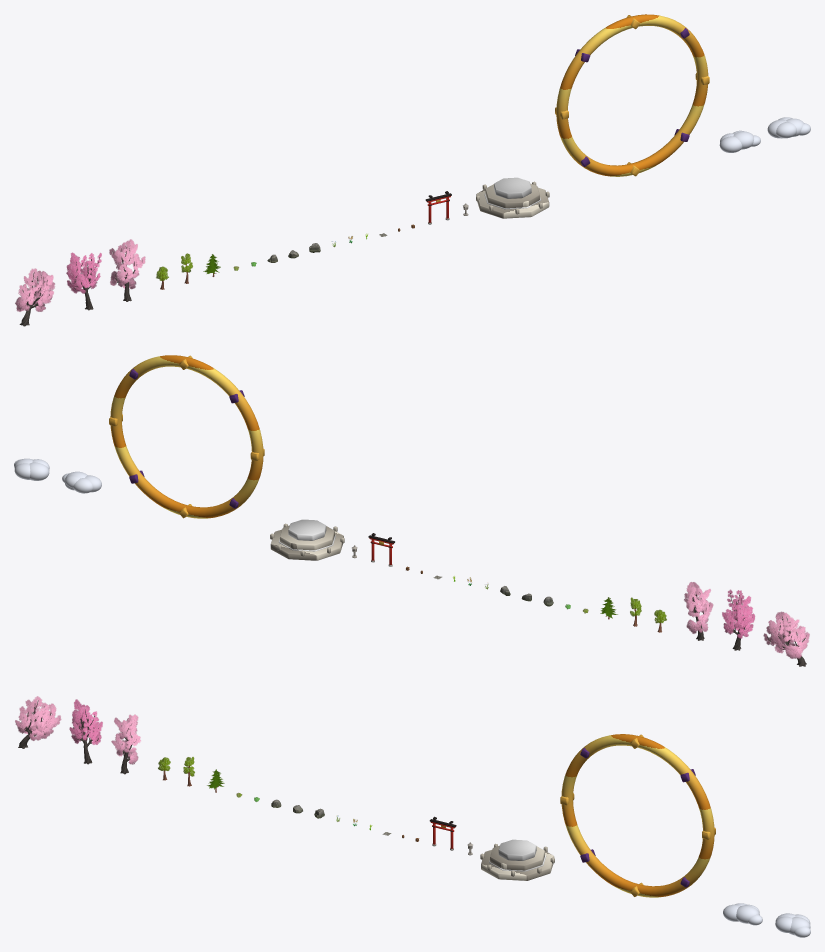
File: SkyDojoKit.glb
3 views of the same model, one above another, from view 1: azimuth 30°, elevation 25°; view 2: azimuth 150°, elevation 25°; view 3: azimuth 330°, elevation 25° (orthographic).
Visible parts, largest first — view 1: PortalRing__Gold.001, Altar__Stone.003, BlossomTree1__Leaves, BlossomTree3__Leaves.002, BlossomTree2__Leaves.001, Altar__Trim, Cloud2__Cloud.001, Cloud1__Cloud; view 2: PortalRing__Gold.001, Altar__Stone.003, BlossomTree1__Leaves, BlossomTree2__Leaves.001, BlossomTree3__Leaves.002, Altar__Trim, Cloud2__Cloud.001, Cloud1__Cloud; view 3: PortalRing__Gold.001, Altar__Stone.003, BlossomTree1__Leaves, BlossomTree2__Leaves.001, BlossomTree3__Leaves.002, Altar__Trim, Cloud2__Cloud.001, Cloud1__Cloud.
Part boxes in pixels (x1,y1,x2,y2): PortalRing__Gold.001: (555, 14, 709, 176); Altar__Stone.003: (476, 181, 549, 218); BlossomTree1__Leaves: (15, 268, 54, 311); BlossomTree3__Leaves.002: (109, 239, 145, 289); BlossomTree2__Leaves.001: (66, 252, 101, 293); Altar__Trim: (484, 177, 541, 209); Cloud2__Cloud.001: (767, 117, 810, 138); Cloud1__Cloud: (719, 130, 760, 152); PortalRing__Gold.001: (109, 355, 264, 518); Altar__Stone.003: (270, 523, 344, 560); BlossomTree1__Leaves: (763, 611, 809, 658); BlossomTree2__Leaves.001: (722, 589, 755, 638); BlossomTree3__Leaves.002: (684, 582, 713, 633); Altar__Trim: (278, 519, 335, 551); Cloud2__Cloud.001: (14, 458, 49, 480); Cloud1__Cloud: (62, 471, 101, 493); PortalRing__Gold.001: (560, 734, 715, 897); Altar__Stone.003: (480, 843, 554, 880); BlossomTree1__Leaves: (15, 696, 61, 740); BlossomTree2__Leaves.001: (69, 699, 102, 744); BlossomTree3__Leaves.002: (111, 714, 140, 764); Altar__Trim: (489, 839, 546, 871); Cloud2__Cloud.001: (775, 913, 810, 937); Cloud1__Cloud: (723, 903, 762, 925).
Size of the model in its own units: 270 by 51.4 by 22.22.
36 materials, 36 textured.
